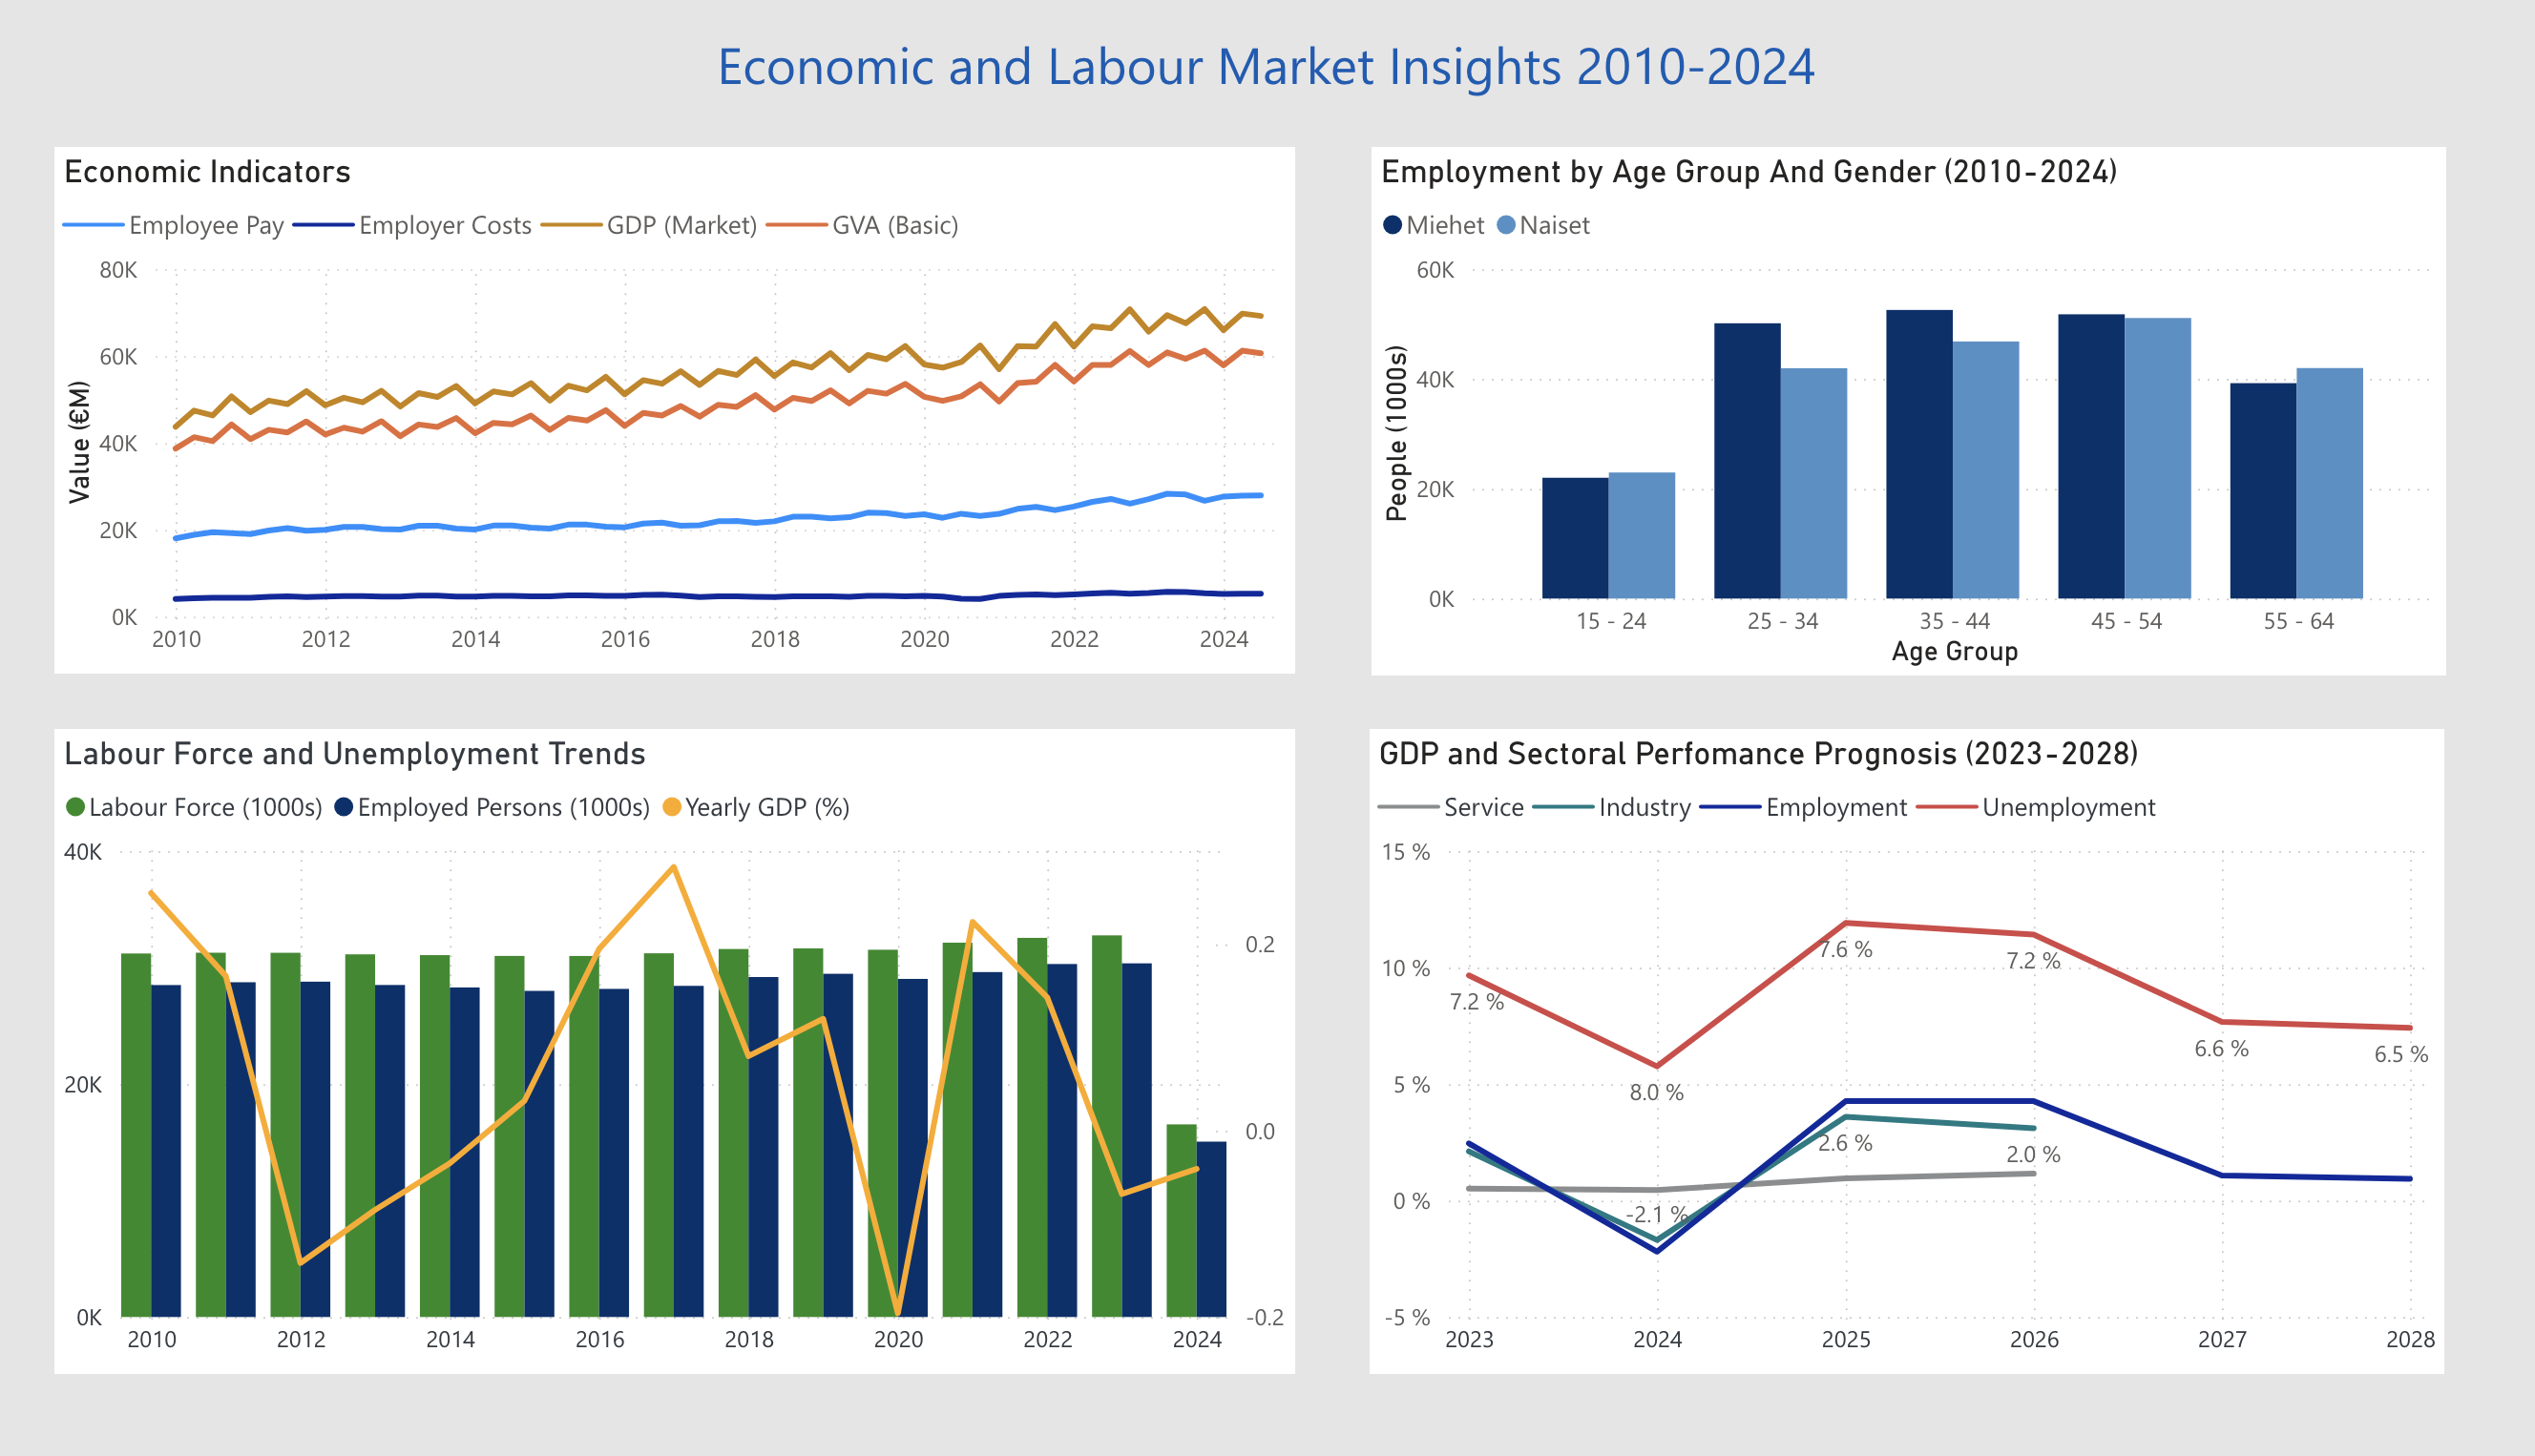

The dashboard page shown, as its layout file describes it:
{"tool":"powerbi","page":{"name":"Sivu 1","canvas":[1280,720],"ordinal":0},"visuals":[{"type":"textbox","box":[10.2,0,1269.8,54.7],"z":0},{"type":"lineClusteredColumnComboChart","title":"Labour Force and Unemployment Trends","fields":{"Y":["Sum(001_135y_2024m10.Työvoima, 1000 henkilöä)","Sum(001_135y_2024m10.Työlliset yhteensä, 1000 henkilöä)"],"Category":["DateTable.Year"],"Y2":["Sum(001_132g_2024q3.Trendisarjan volyymin muutos vuodentakaisesta, %)"]},"box":[10.2,371.5,650.2,338.4],"z":1000},{"type":"stackedAreaChart","title":"GDP and Sectoral Perfomance Prognosis (2023-2028)","fields":{"Category":["DateTable.Date"],"Y":["Sum(Keskeiset ennusteluvut.Value %)"],"Series":["Keskeiset ennusteluvut.Metric"]},"box":[698.5,371.5,563.7,338.4],"z":2000},{"type":"clusteredColumnChart","title":"Employment by Age Group And Gender (2010-2024)","fields":{"Series":["001_135y_2024m10.Gender"],"Y":["Sum(001_135y_2024m10.Työlliset yhteensä, 1000 henkilöä)"],"Category":["001_135y_2024m10.Age Group"]},"box":[699.8,67.4,563.7,276.1],"z":3000},{"type":"lineChart","title":"Economic Indicators","fields":{"Y":["Sum(001_132g_2024q3.Alkuperäinen sarja käypiin hintoihin, miljoonaa euroa)"],"Category":["DateTable.Date"],"Series":["001_132g_2024q3.Metric Name English"]},"box":[10.2,67.4,650.2,276],"z":4000}]}

Visuals, with their boxes in screenshot pixels (x1, y1, x2, y2), scaled from the page's 1280x720 canvas onto the 2535x1456 screenshot:
textbox: [left=20, top=0, right=2534, bottom=111]
"Labour Force and Unemployment Trends" lineClusteredColumnComboChart: [left=20, top=751, right=1308, bottom=1436]
"GDP and Sectoral Perfomance Prognosis (2023-2028)" stackedAreaChart: [left=1383, top=751, right=2500, bottom=1436]
"Employment by Age Group And Gender (2010-2024)" clusteredColumnChart: [left=1386, top=136, right=2503, bottom=695]
"Economic Indicators" lineChart: [left=20, top=136, right=1308, bottom=695]
